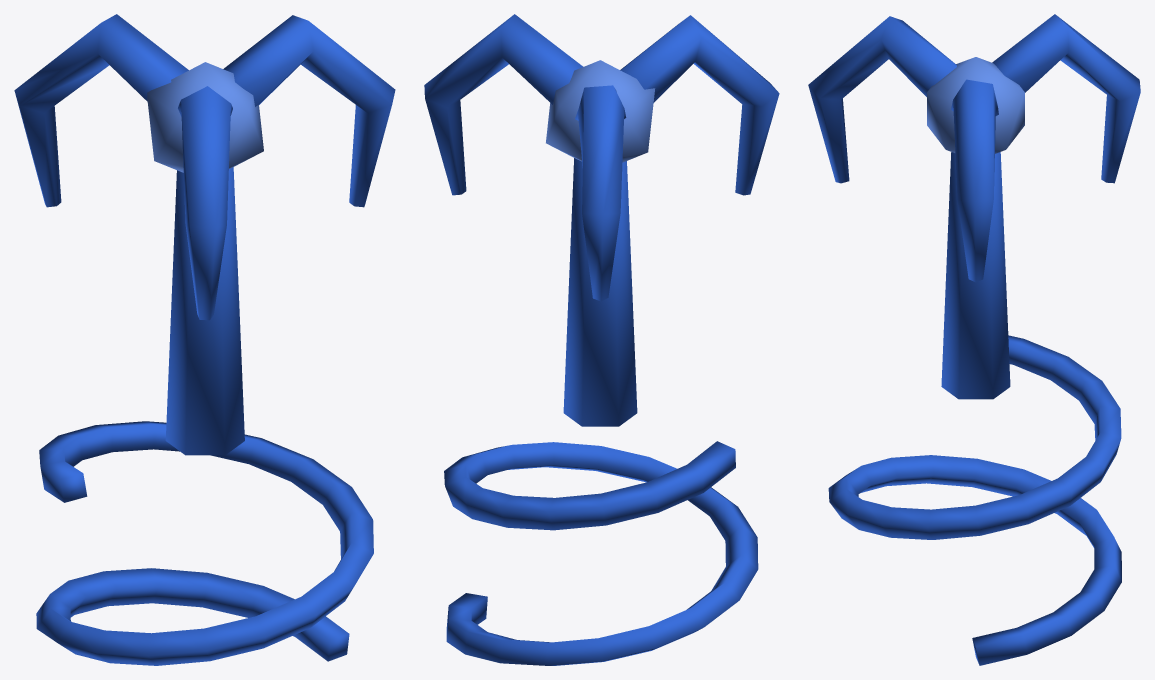
Rendered from sapphire_hook.glb.
3 views of the same model, side by side, from view 1: azimuth 30°, elevation 25°; view 2: azimuth 150°, elevation 25°; view 3: azimuth 270°, elevation 25° (orthographic). The views are drawn at different scales.
Visible parts, largest first — view 1: sapphire_hook_v0; view 2: sapphire_hook_v0; view 3: sapphire_hook_v0.
Part boxes in pixels (x1,y1,x2,y2): sapphire_hook_v0: (14, 14, 395, 665); sapphire_hook_v0: (424, 14, 779, 665); sapphire_hook_v0: (808, 14, 1140, 665).
Size of the model in its own units: 0.1774 by 0.3275 by 0.1736.
